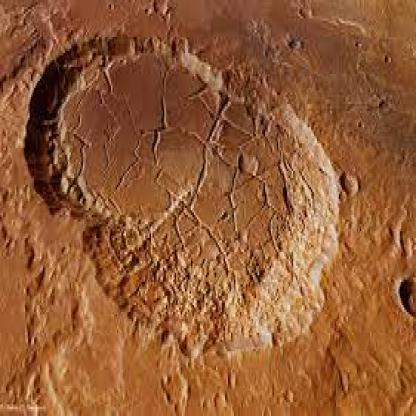craters: (83, 88, 357, 360), (21, 37, 221, 226), (333, 162, 363, 203), (286, 34, 309, 58)
